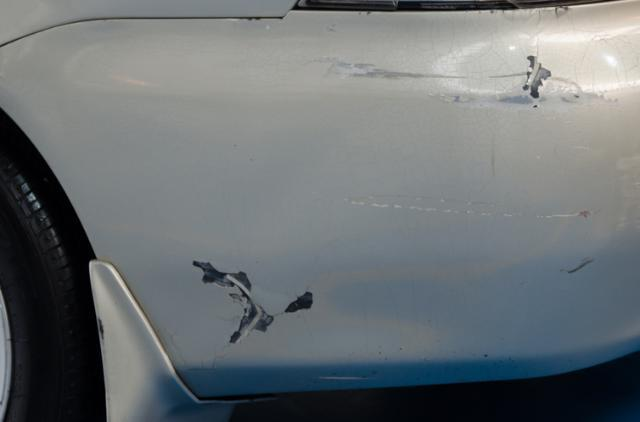Bumper: (126, 24, 640, 379)
